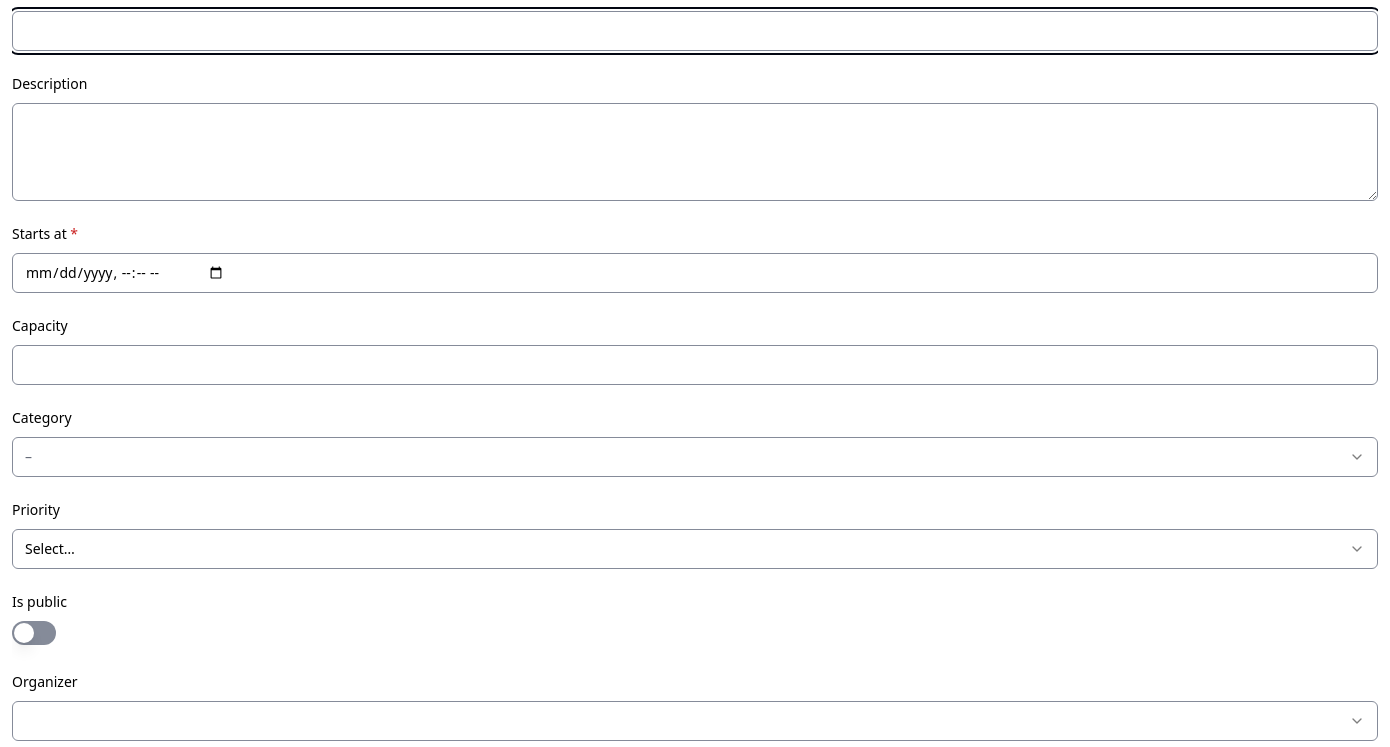
Test: ResourceForm slow submit › disables the fields and the button (which keeps its width) without losing values
The image size is (1390, 747).
Type "Spring gala" into the field labelled "Title" at point(695, 31), box x1=12 y1=11 x2=1378 y2=51
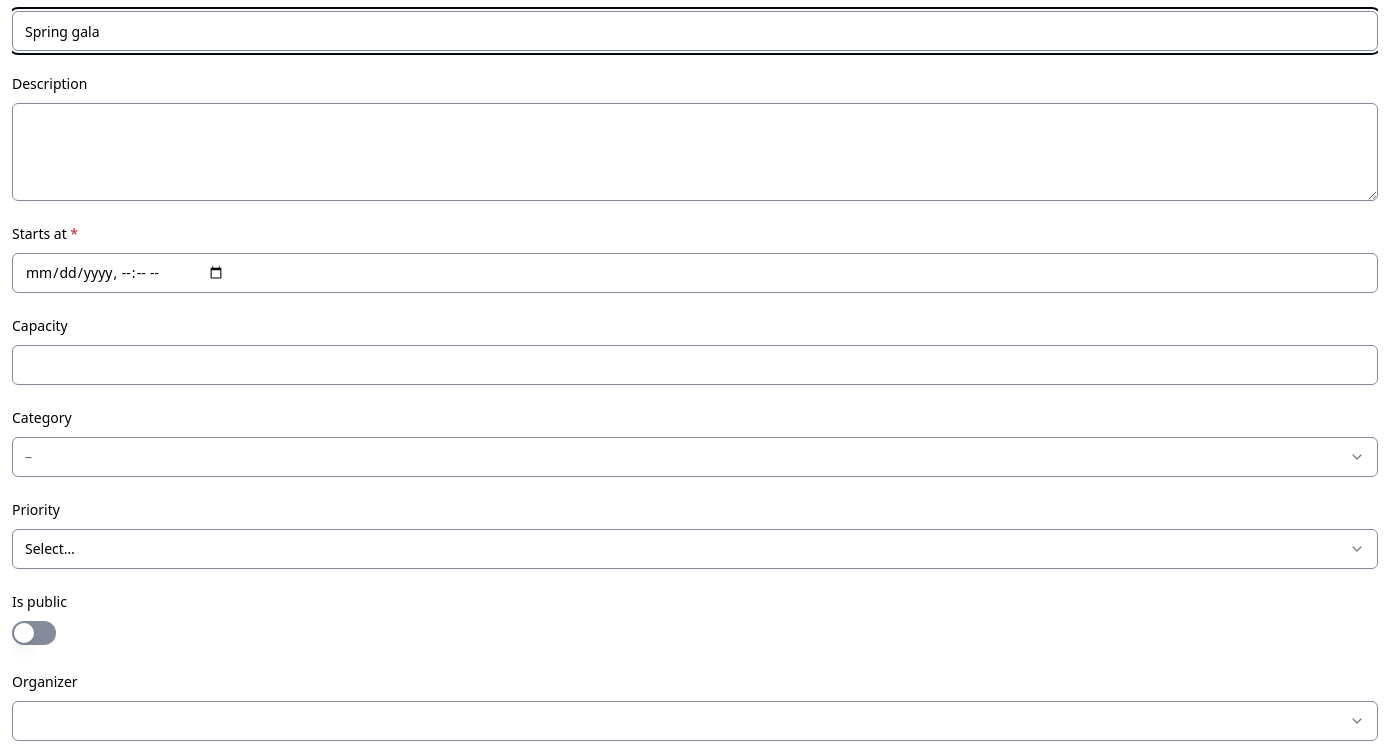
Type "2026-05-01T18:30" into the field labelled "Starts at *" at point(695, 273), box x1=12 y1=253 x2=1378 y2=293
(page scrolled)
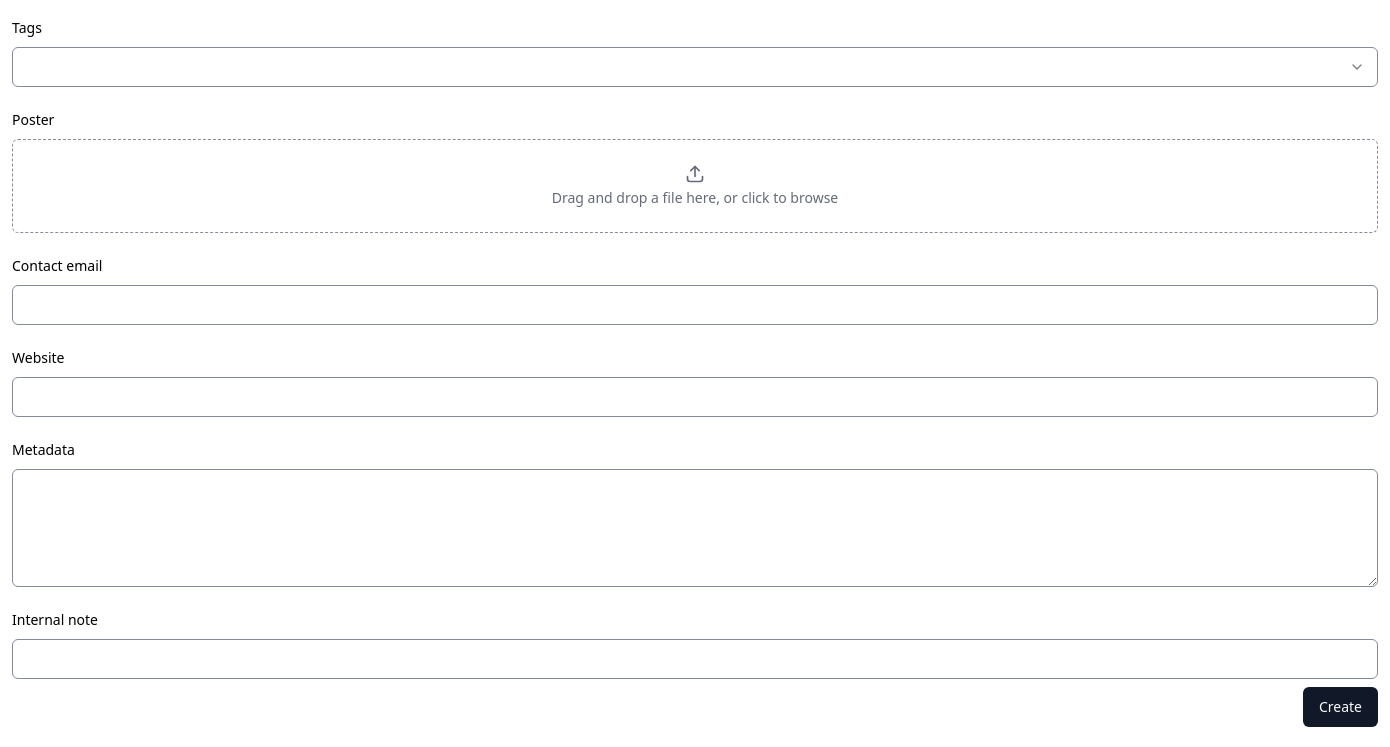
Click the button "Create" at point(1340, 707), box x1=1303 y1=687 x2=1378 y2=727
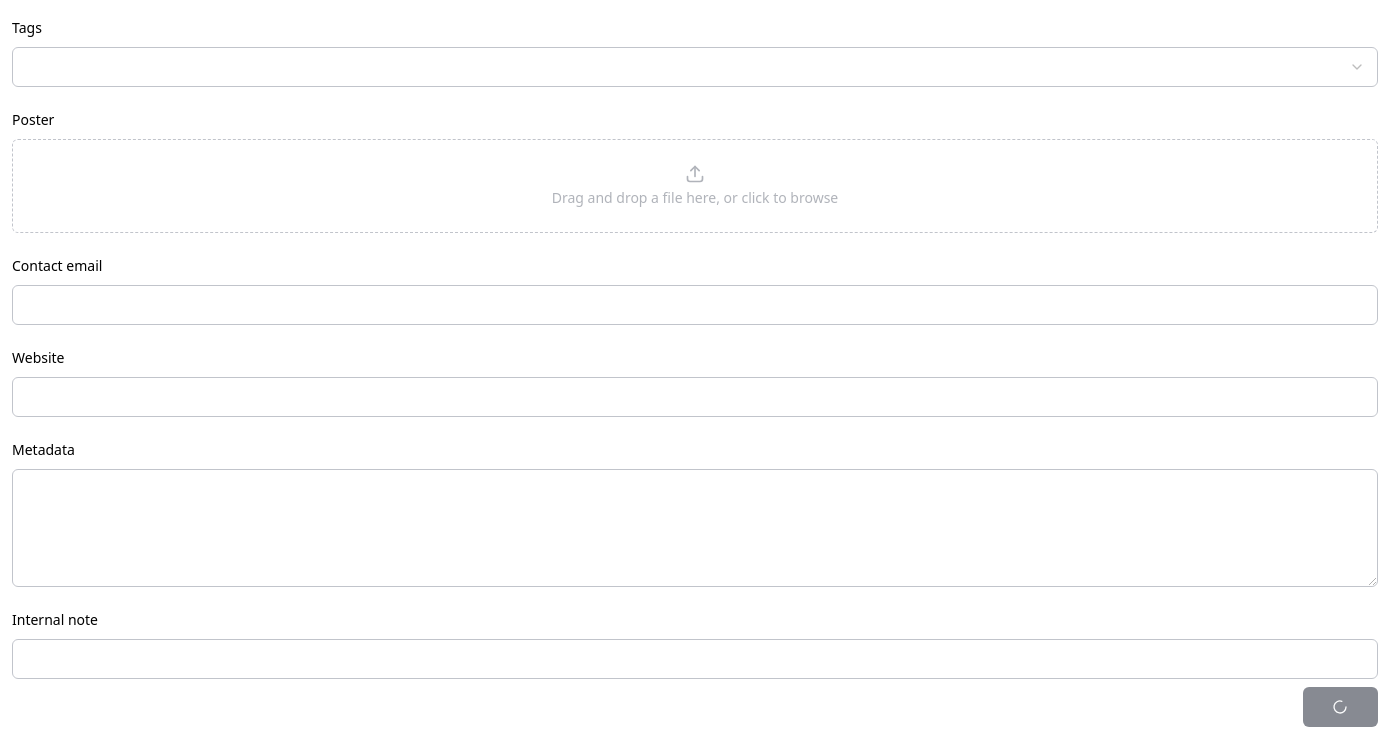
Check: the button "Create" is disabled
Check: the icon with class "animate-spin" is shown, box x1=1332 y1=699 x2=1348 y2=715
Click the button "Create" at point(1340, 707), box x1=1303 y1=687 x2=1378 y2=727
(page scrolled)
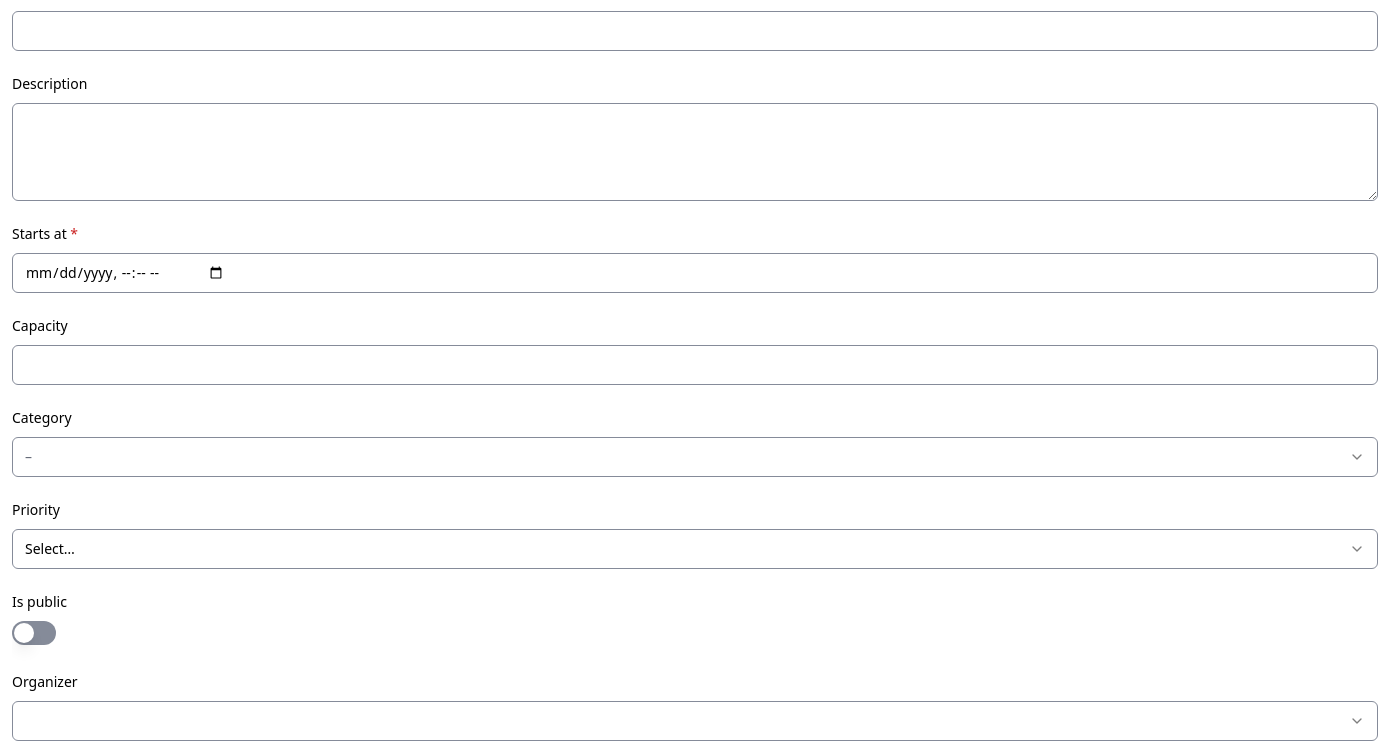
Check: the field labelled "Title" is enabled, box x1=12 y1=11 x2=1378 y2=51
